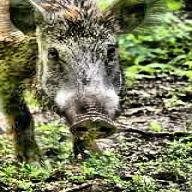boar: (0, 0, 150, 159)
